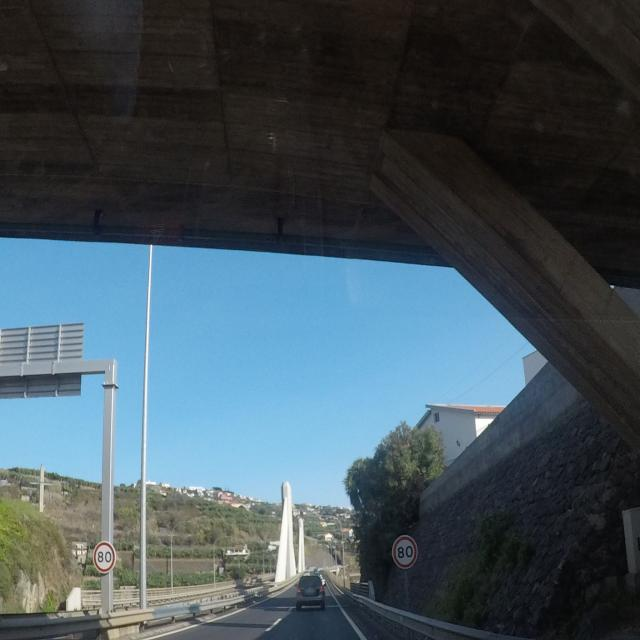car: (294, 574, 326, 611)
